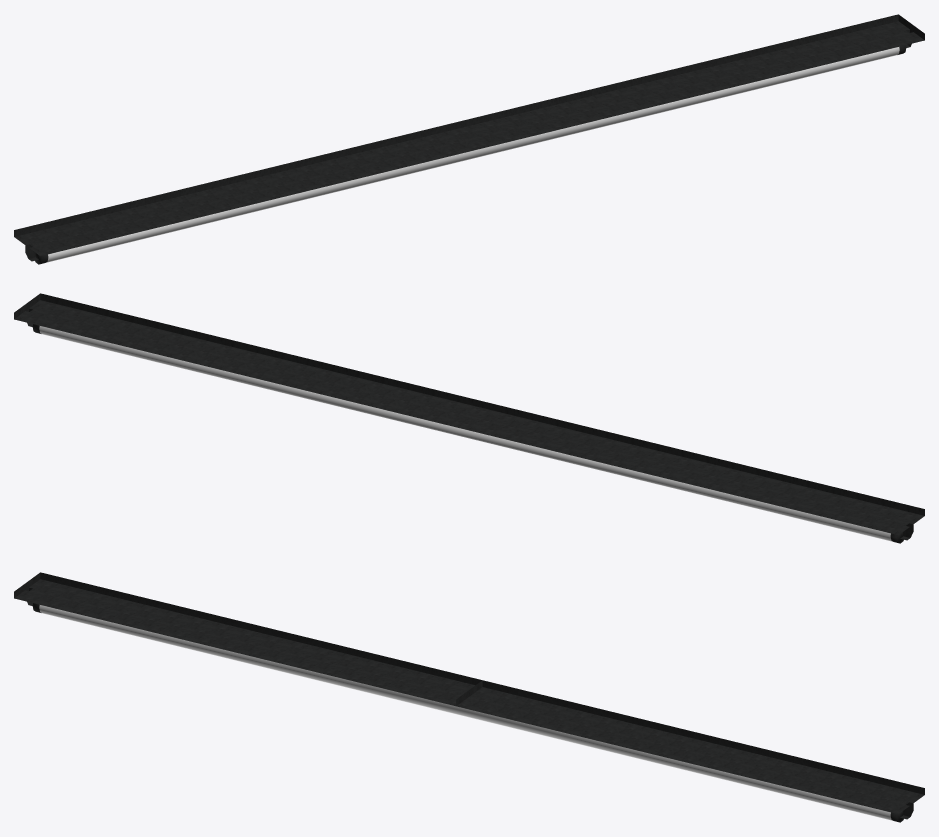
Rendered from Lamps.fbx.
3 views of the same model, one above another, from view 1: azimuth 30°, elevation 25°; view 2: azimuth 150°, elevation 25°; view 3: azimuth 330°, elevation 25° (orthographic).
Visible parts, largest first — view 1: NeonLamp, Bulb; view 2: NeonLamp, Bulb; view 3: NeonLamp, Bulb.
Boxes of the visible parts, x1,y1,x2,y2 form: NeonLamp: [14, 14, 924, 264]; Bulb: [46, 47, 899, 262]; NeonLamp: [14, 293, 924, 543]; Bulb: [39, 326, 892, 541]; NeonLamp: [14, 572, 924, 822]; Bulb: [39, 605, 892, 820].
Bounding box in the file's own units: 2.05 × 0.1059 × 0.058.
